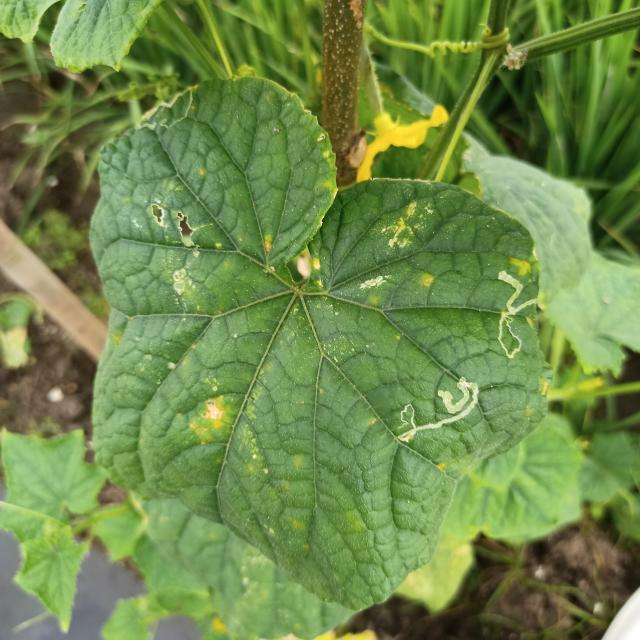disease_cucumber: (149, 198, 207, 304), (384, 199, 435, 253), (191, 377, 229, 445), (356, 270, 446, 292), (311, 256, 328, 296), (509, 254, 534, 279), (262, 238, 273, 259), (540, 383, 547, 396)
